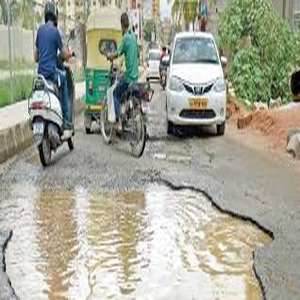pothole: (1, 178, 278, 300)
